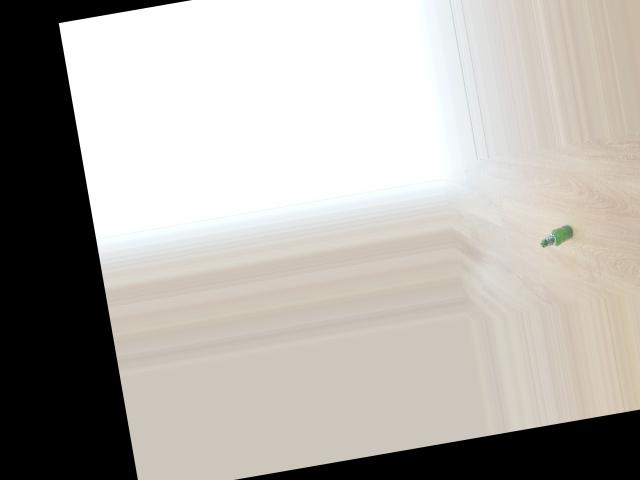beer: (538, 223, 575, 248)
